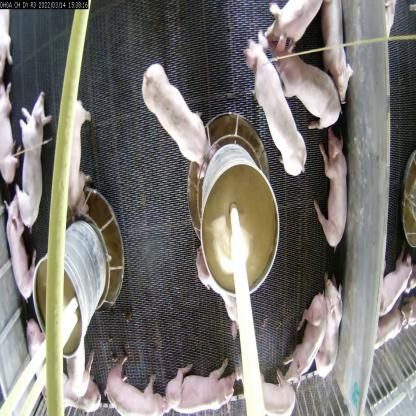Pig: (245, 44, 318, 201), (138, 53, 214, 163), (313, 124, 355, 267), (198, 241, 254, 343), (9, 93, 51, 227), (268, 49, 340, 127), (52, 85, 91, 229), (280, 296, 328, 400), (99, 352, 174, 415), (322, 4, 362, 115), (315, 273, 349, 403), (171, 353, 239, 416), (57, 342, 105, 415), (241, 363, 303, 415), (377, 241, 416, 322), (257, 0, 318, 48), (23, 319, 55, 407), (7, 193, 31, 300)
